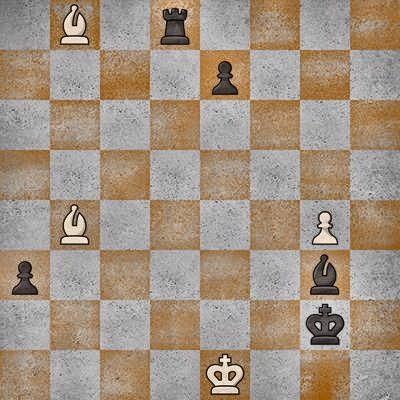black-bishop: (300, 250, 350, 300)
black-king: (300, 300, 350, 350)
black-pawn: (200, 50, 250, 100), (0, 250, 50, 300)
black-rook: (150, 0, 200, 50)
white-bishop: (50, 0, 100, 50), (50, 200, 100, 250)
white-king: (200, 350, 250, 400)
white-pawn: (300, 200, 350, 250)
